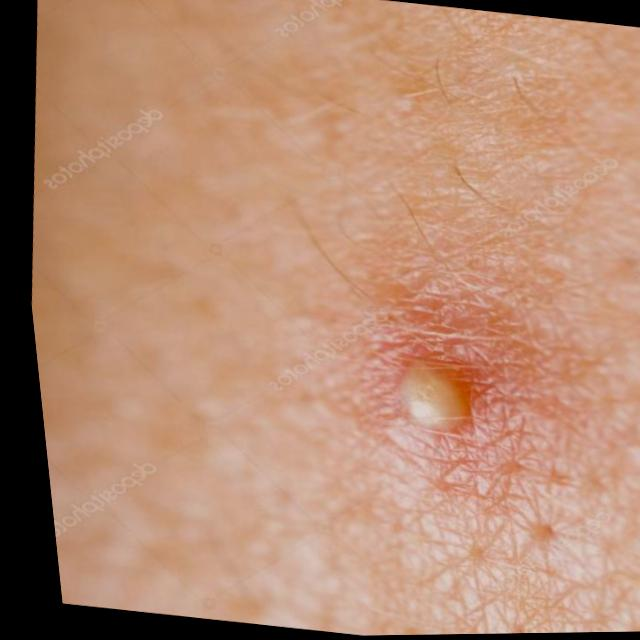pustule: (315, 292, 530, 493)
